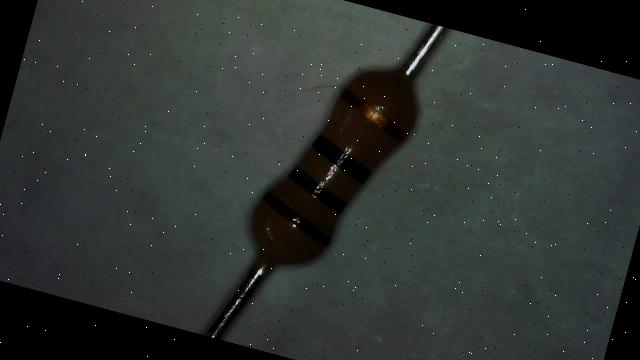black: (306, 134, 378, 184), (282, 165, 352, 214)
brown: (254, 189, 338, 246)
gold: (334, 88, 412, 140)
resistor: (232, 34, 465, 285)
